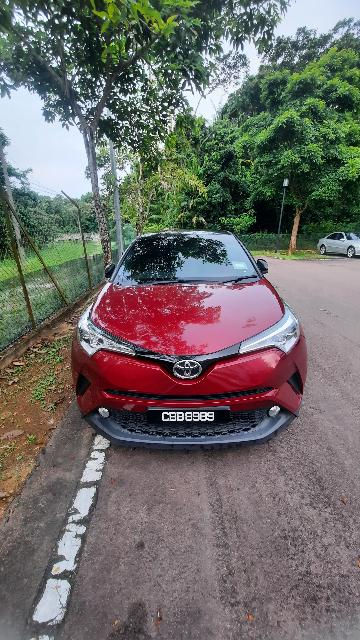License_Plate: (143, 406, 234, 430)
car: (77, 225, 310, 459)
